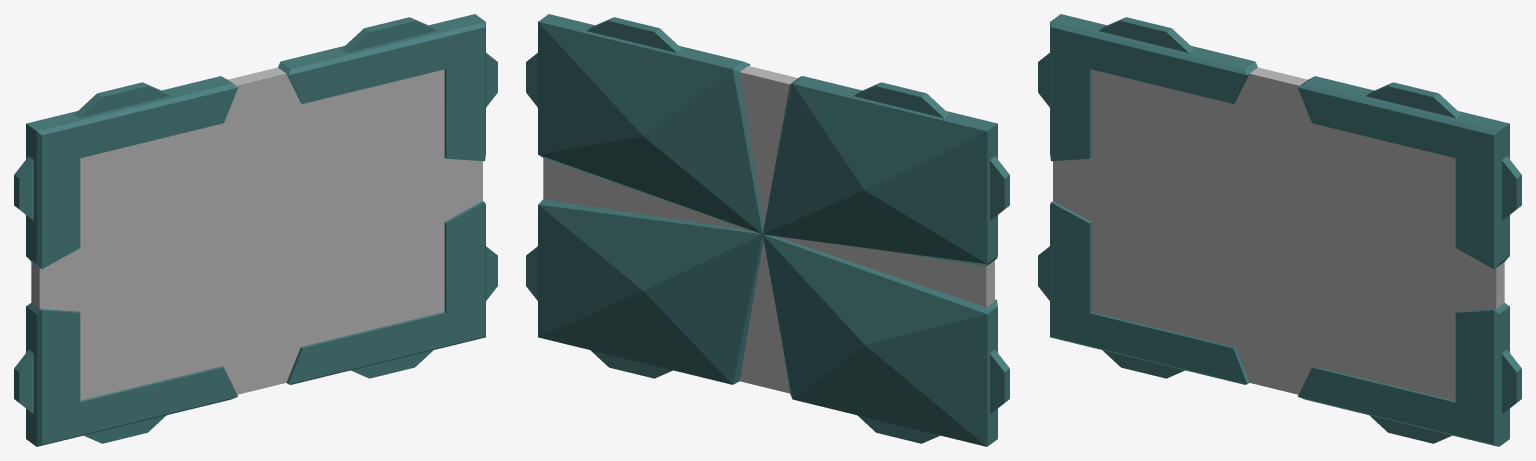
The model's file is BlueprintTablet.fbx.
3 views of the same model, side by side, from view 1: azimuth 30°, elevation 25°; view 2: azimuth 150°, elevation 25°; view 3: azimuth 330°, elevation 25° (orthographic).
Visible parts, largest first — view 1: BlueprintTablet_LOD0; view 2: BlueprintTablet_LOD0; view 3: BlueprintTablet_LOD0.
Boxes of the visible parts, x1,y1,x2,y2 form: BlueprintTablet_LOD0: (14, 14, 497, 446); BlueprintTablet_LOD0: (526, 14, 1009, 446); BlueprintTablet_LOD0: (1038, 14, 1521, 446).
Size of what is drawn, in the model's own units: 0.324 by 0.2242 by 0.025.
